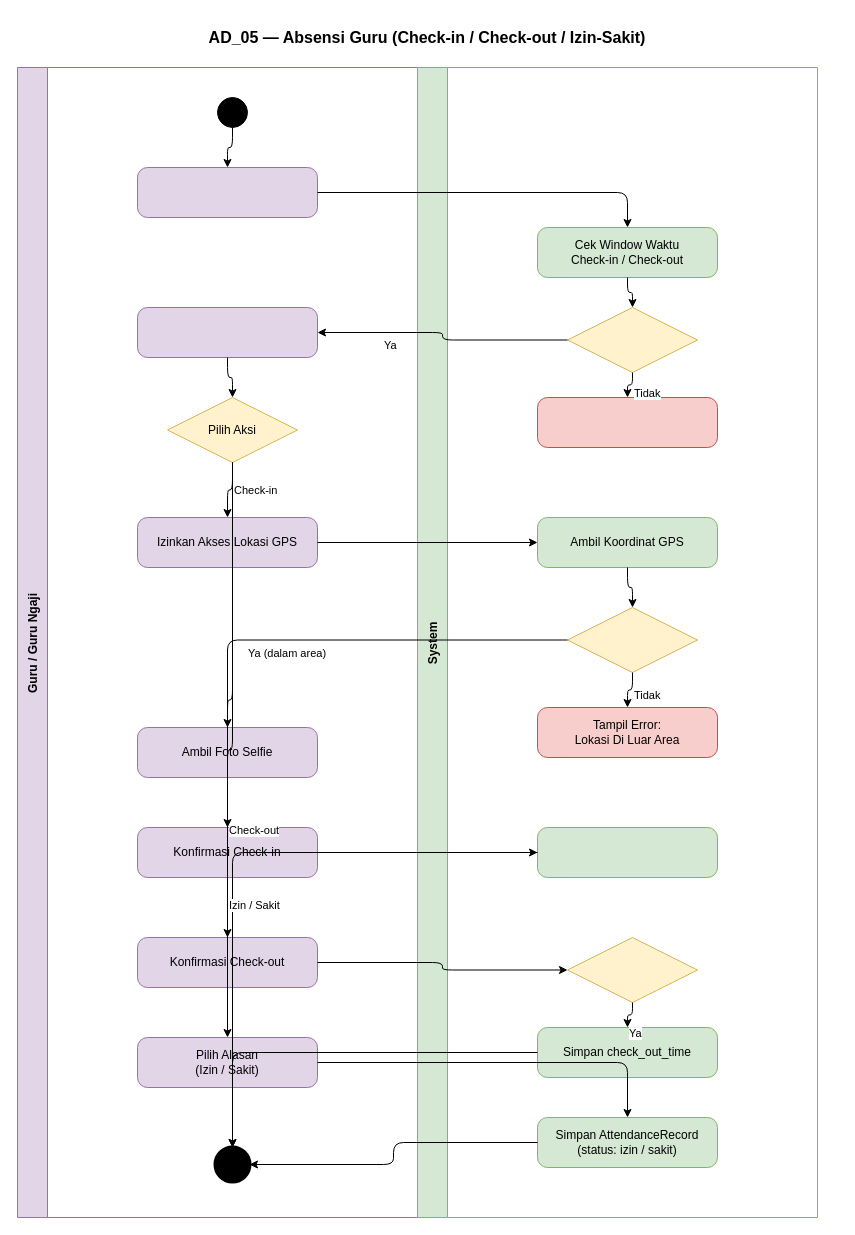
Image size: 855x1235. Some labels were removed from this diagram. Each missing label, with the centre of its shape:
Buka Halaman Absensi Guru: (x=227, y=192)
Dalam Radius Geofence?: (x=632, y=639)
Dalam Window Waktu?: (x=632, y=339)
Lihat Status Absensi Hari Ini: (x=227, y=332)
Simpan AttendanceRecord check_in_time + selfie: (x=627, y=852)
Sudah Check-in Hari Ini?: (x=632, y=969)
Tampil Error: Di Luar Jam Absensi: (x=627, y=422)
